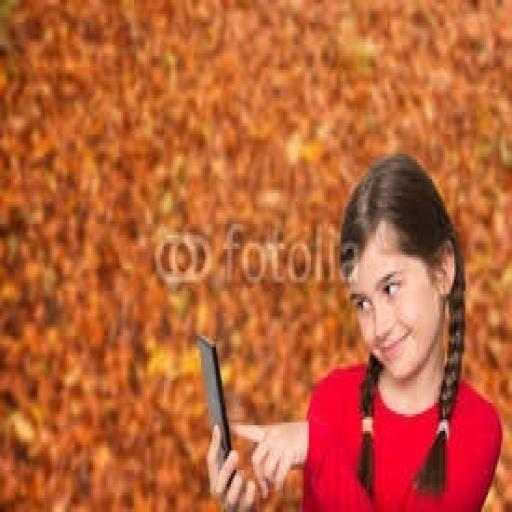texting: (203, 148, 504, 509)
